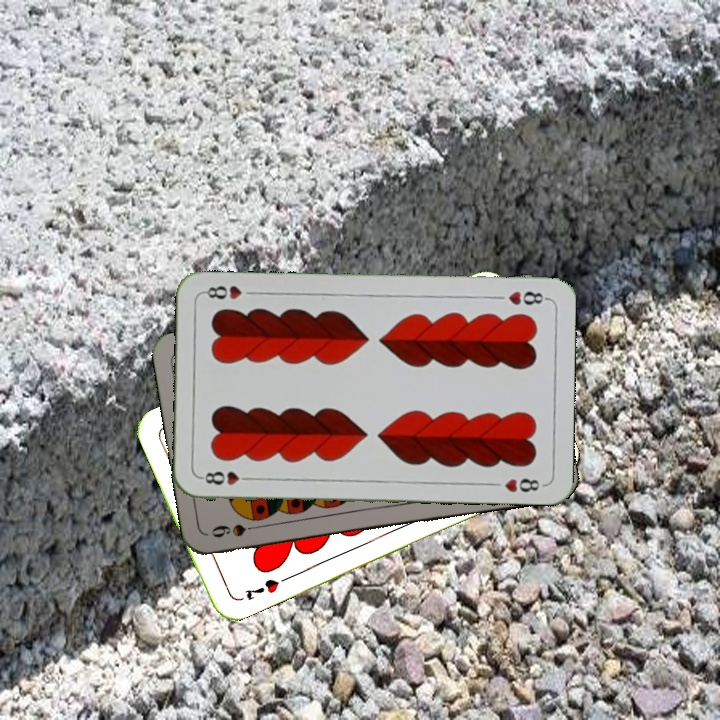H7: (240, 575, 282, 603)
H8: (197, 467, 257, 488), (504, 287, 550, 308)
S9: (207, 520, 266, 540)
